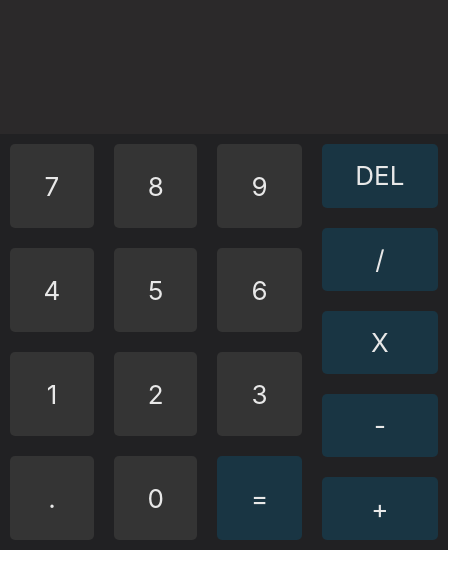
Test case: clicking an operator should display it
Click the text "3": coordinates (260, 394) [218,352,302,436]
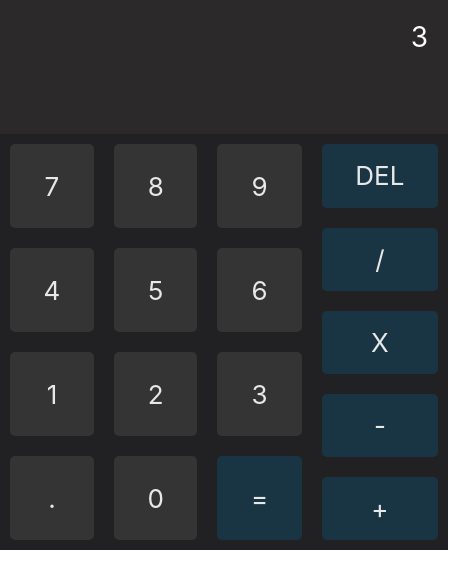
Click the text "+": coordinates (380, 508) [322,477,438,540]
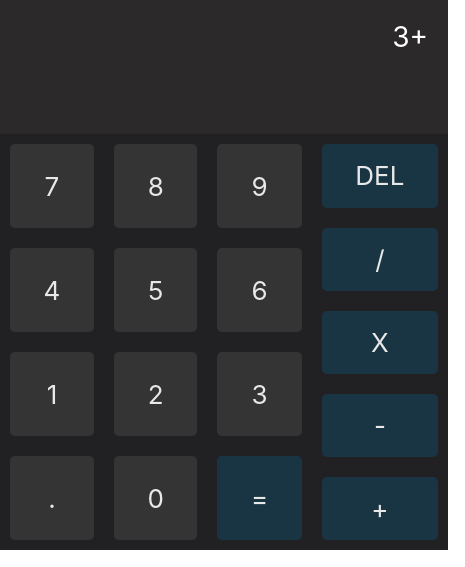
Now the text with test id "expression" reads "3+", box [392,20,428,54]
